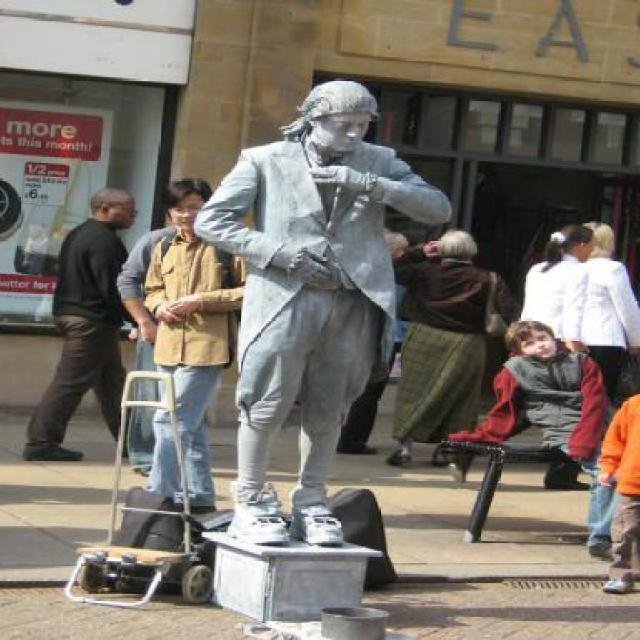Person: (187, 75, 458, 550), (114, 172, 251, 516), (18, 185, 156, 463), (388, 224, 518, 470), (459, 316, 618, 461), (509, 221, 600, 354)
